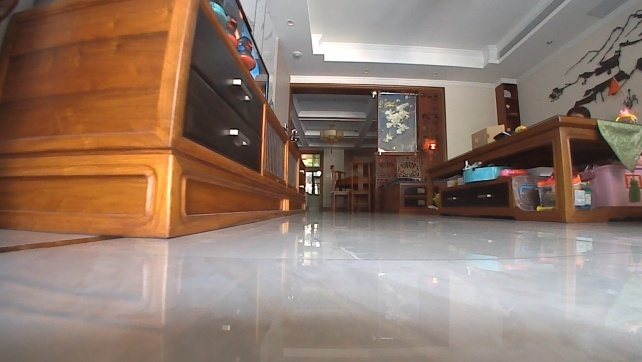TV_stand: (0, 0, 308, 244)
dining_table: (326, 160, 372, 213)
sofa1: (376, 177, 428, 215)
tea_table: (420, 109, 641, 222)
